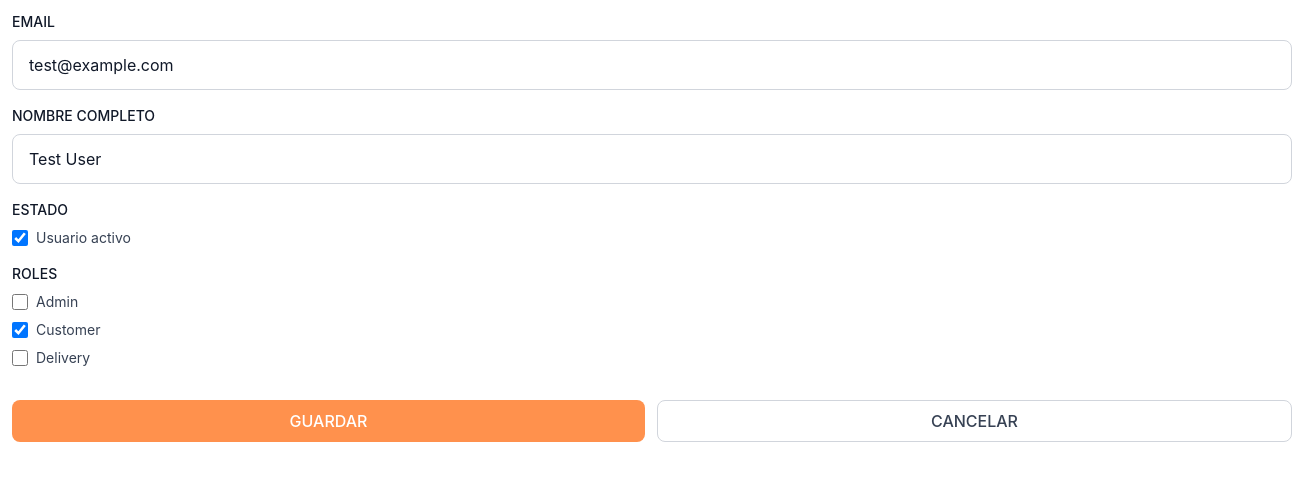
it: EditUserForm › Form Validation › should clear field errors when user starts typing
Clear the field showing "test@example.com": (652, 65) [12, 40, 1292, 90]
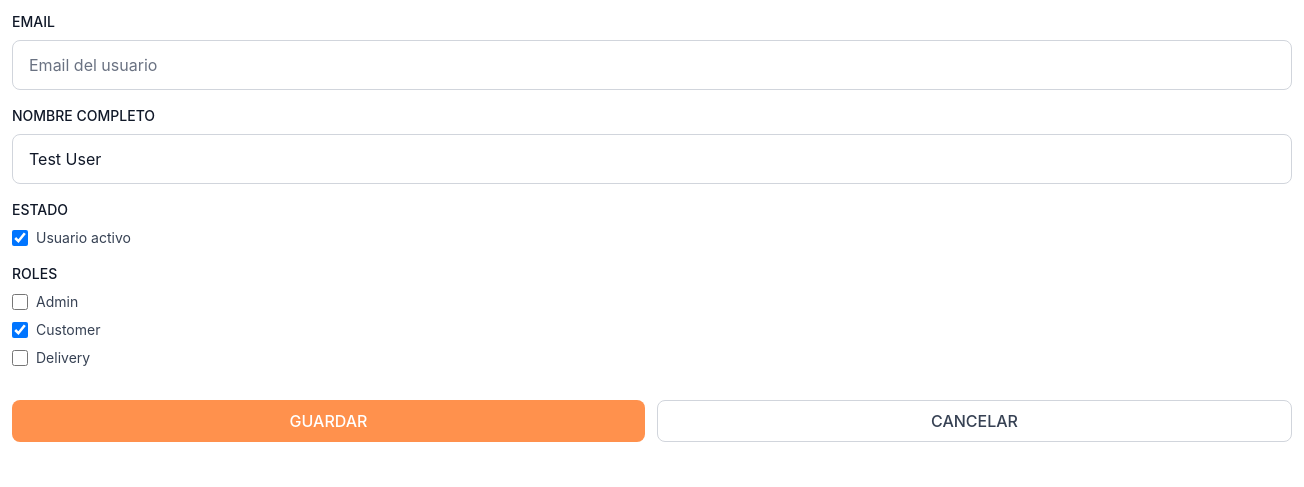
Click the button "GUARDAR": (328, 421) [12, 400, 645, 442]
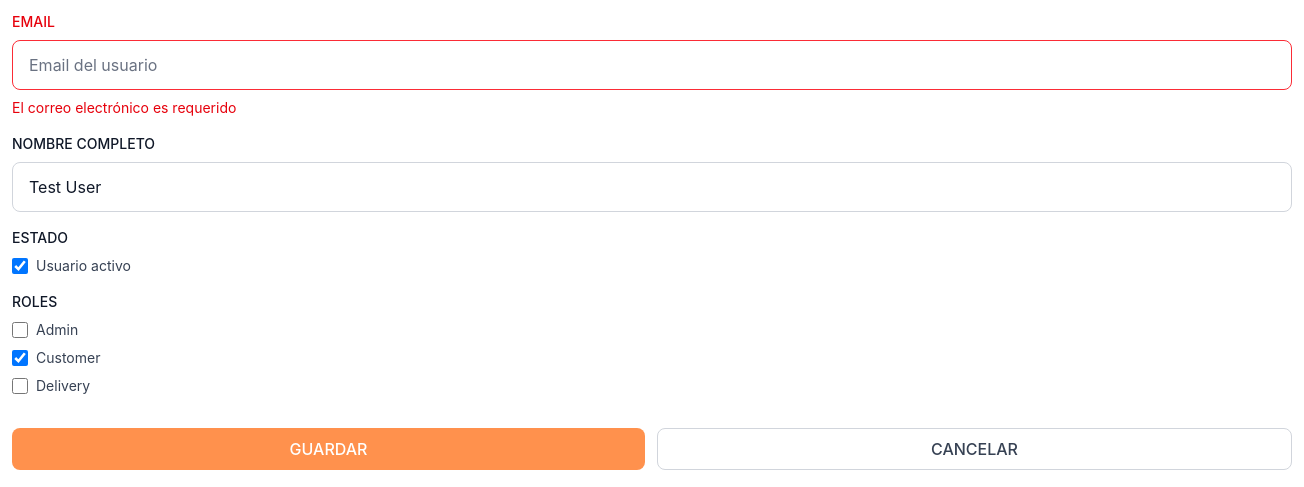
Expected: the text "El correo electrónico es requerido" is shown, [12, 99, 236, 116]
In the field showing "test@example.com": (652, 65) [12, 40, 1292, 90], type "newemail@example.com"
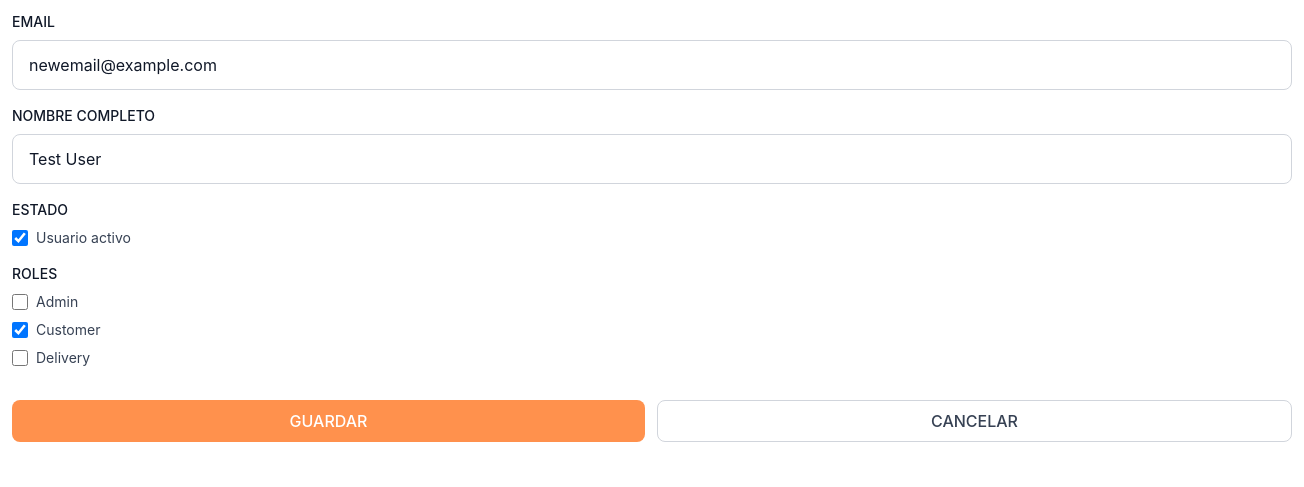
Expected: the text "El correo electrónico es requerido" is gone
